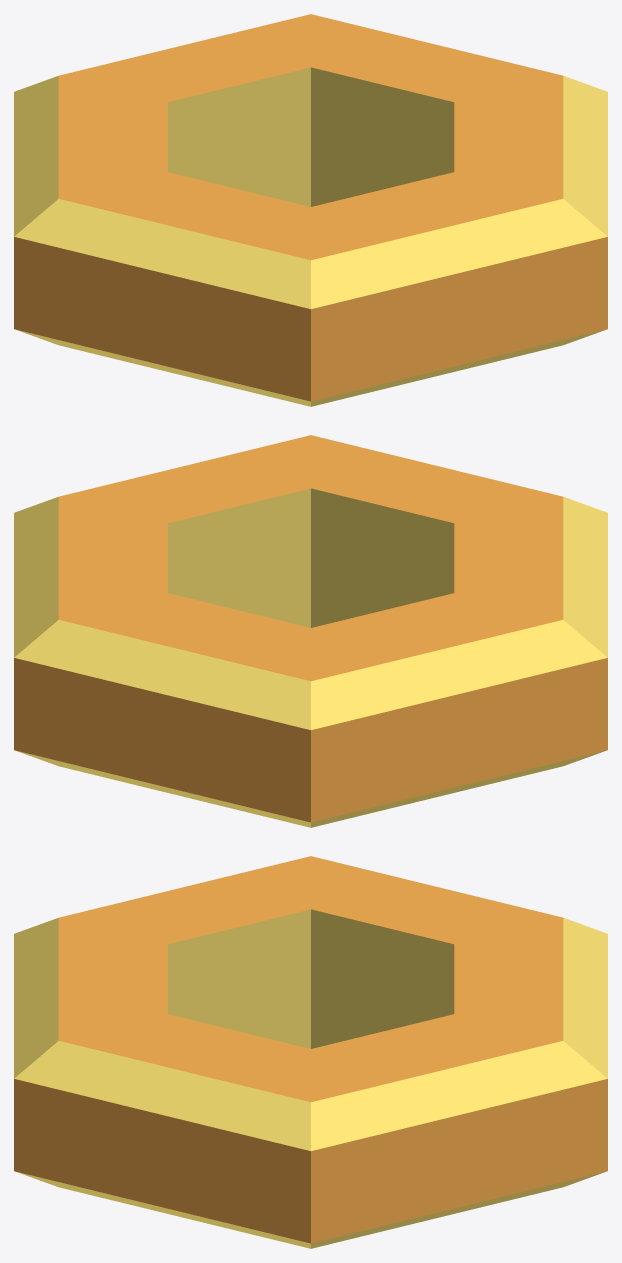
File: Scrap_Nut.fbx
3 views of the same model, one above another, from view 1: azimuth 30°, elevation 25°; view 2: azimuth 150°, elevation 25°; view 3: azimuth 270°, elevation 25° (orthographic).
Visible parts, largest first — view 1: Nut; view 2: Nut; view 3: Nut.
Part boxes in pixels (x1,y1,x2,y2): Nut: [14, 14, 607, 406]; Nut: [14, 435, 607, 827]; Nut: [14, 856, 607, 1248].
Size of the model in its own units: 602 by 142 by 521.
